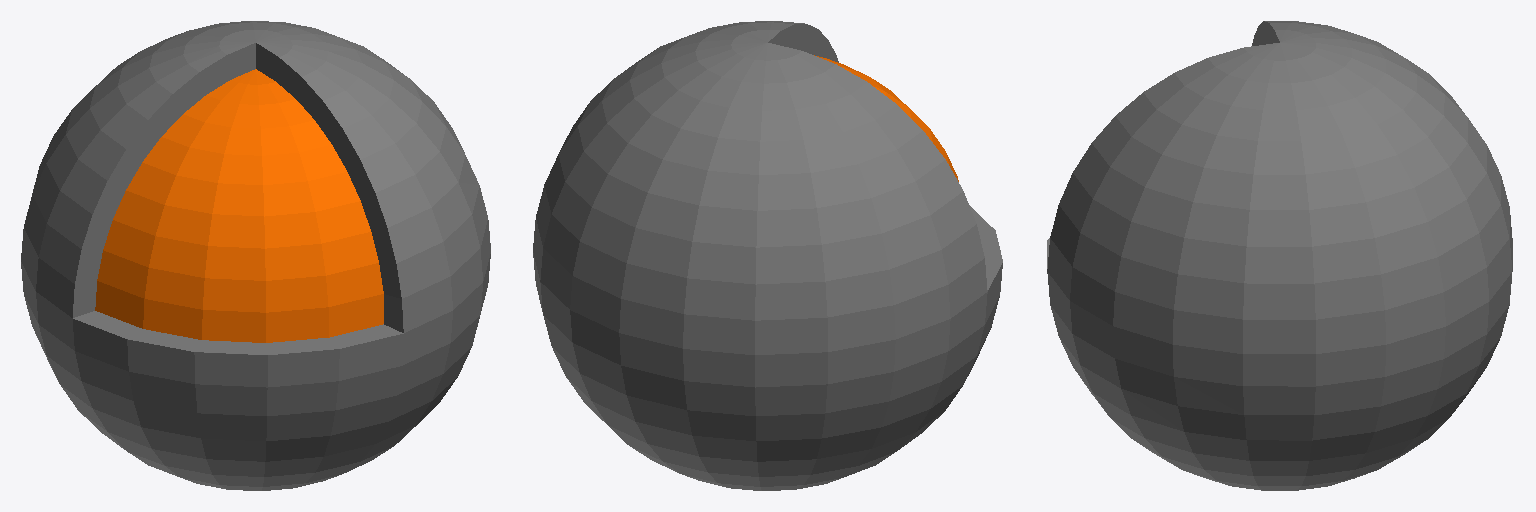
3 views of the same model, side by side, from view 1: azimuth 30°, elevation 25°; view 2: azimuth 150°, elevation 25°; view 3: azimuth 270°, elevation 25° (orthographic).
Visible parts, largest first — view 1: pSphere1 polySurface1, polySurface2 pSphere1; view 2: pSphere1 polySurface1, polySurface2 pSphere1; view 3: pSphere1 polySurface1.
Boxes of the visible parts, x1=… form: pSphere1 polySurface1: x1=21, y1=21, x2=490, y2=490; polySurface2 pSphere1: x1=95, y1=69, x2=383, y2=342; pSphere1 polySurface1: x1=533, y1=21, x2=1002, y2=490; polySurface2 pSphere1: x1=814, y1=55, x2=958, y2=181; pSphere1 polySurface1: x1=1047, y1=21, x2=1512, y2=490.
Bounding box in the file's own units: 1.57 × 1.58 × 1.57.
Materials: 2 (2 with a texture image).